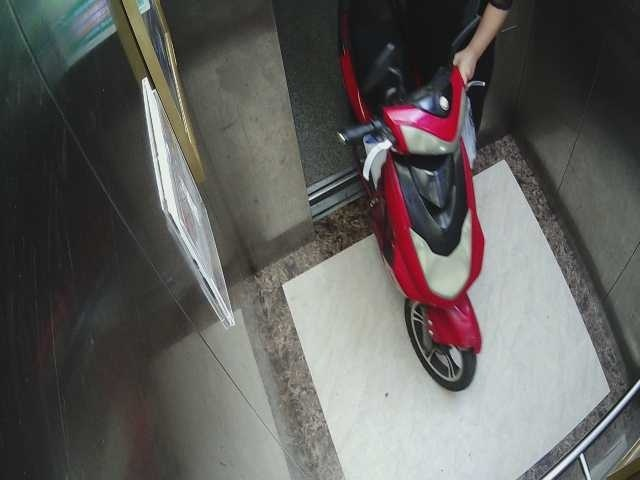emotor: (332, 4, 495, 389)
